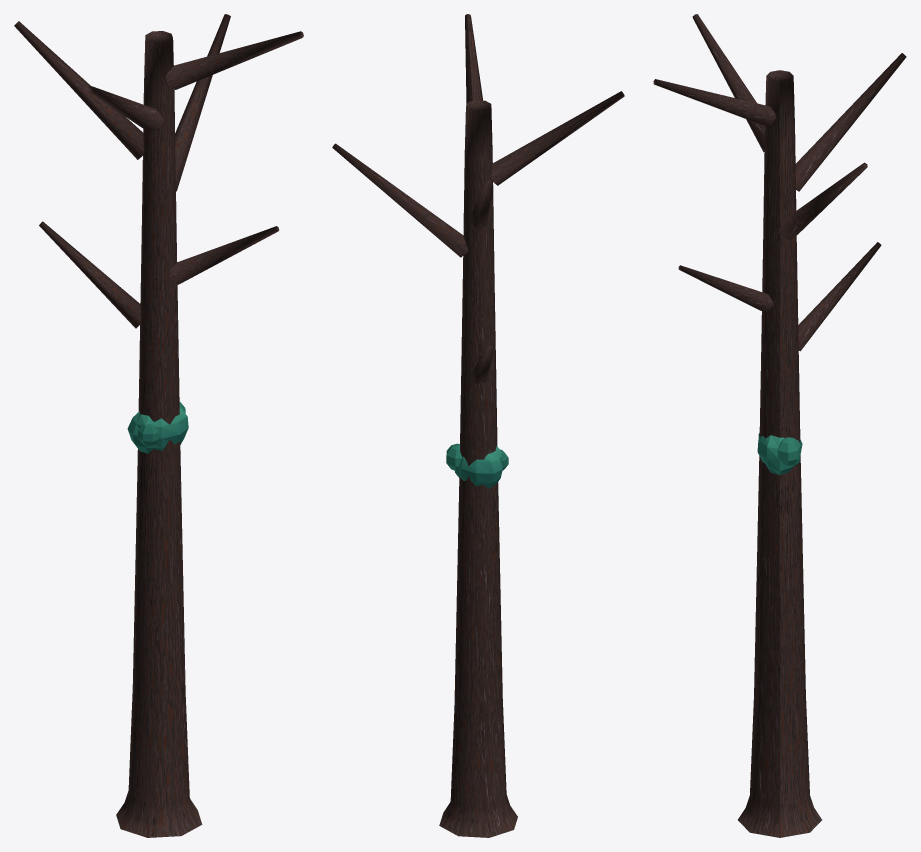
Rendered from lumenwood-v3.glb.
3 views of the same model, side by side, from view 1: azimuth 30°, elevation 25°; view 2: azimuth 150°, elevation 25°; view 3: azimuth 270°, elevation 25° (orthographic). The views are drawn at different scales.
Visible parts, largest first — view 1: LumenTrunk, LumenBlob; view 2: LumenTrunk, LumenBlob; view 3: LumenTrunk, LumenBlob.
Boxes of the visible parts, <box> form: LumenTrunk: <box>14,14,303,837</box>; LumenBlob: <box>127,402,188,453</box>; LumenTrunk: <box>332,14,624,837</box>; LumenBlob: <box>446,443,508,488</box>; LumenTrunk: <box>653,14,906,837</box>; LumenBlob: <box>757,433,802,474</box>.
Size of the model in its own units: 9.24 by 31.3 by 9.25.
2 materials, 1 textured.
